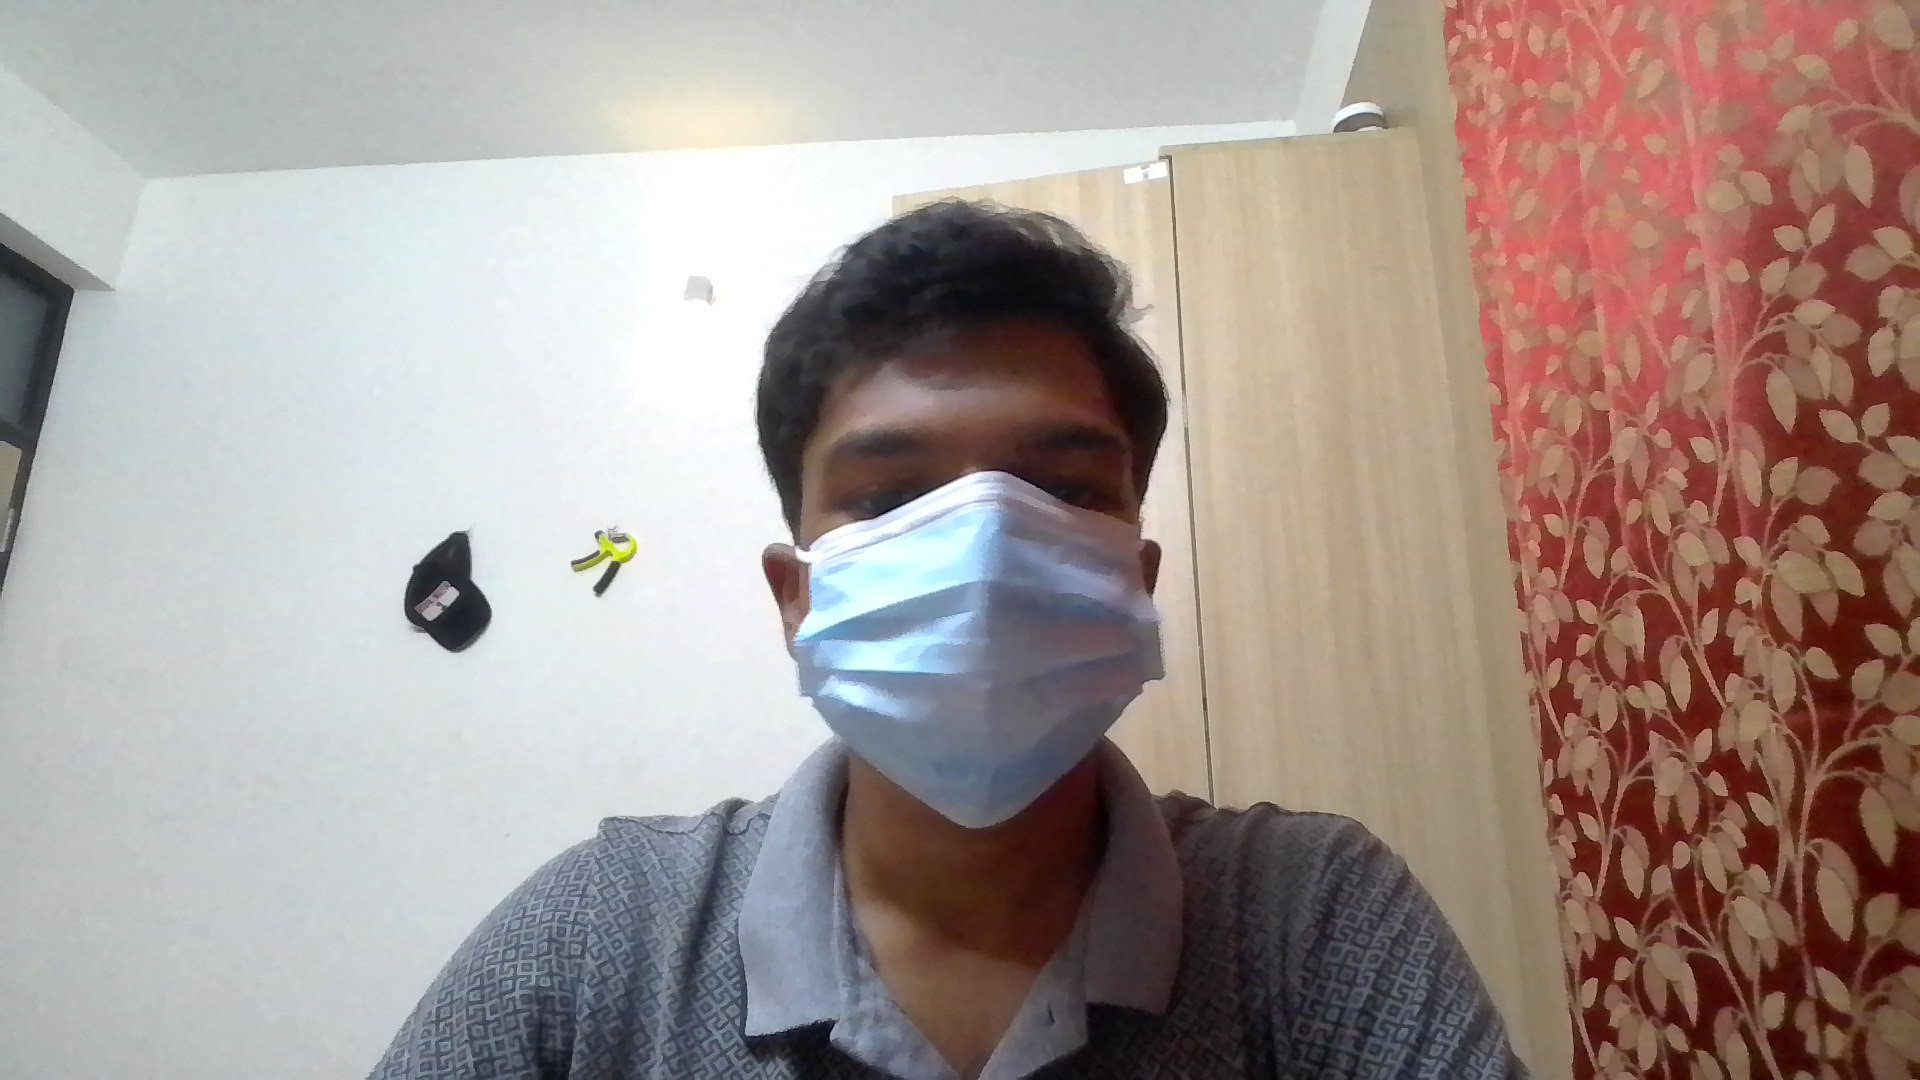Mask: (749, 488, 1197, 831)
